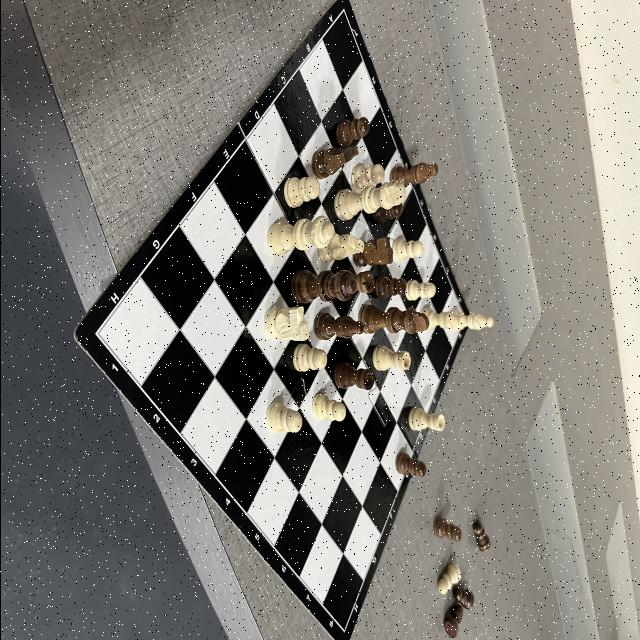Black-Bishop: (313, 312, 363, 341), (389, 162, 437, 190)
Black-King: (358, 304, 428, 334)
Black-Knight: (310, 144, 358, 180), (352, 237, 392, 268)
Black-Pawn: (335, 117, 369, 147), (395, 452, 426, 477), (374, 275, 406, 299), (432, 516, 462, 541), (442, 606, 462, 638), (372, 204, 402, 224), (472, 522, 490, 552), (452, 586, 474, 609)
Black-Queen: (290, 270, 356, 302)
Black-Rook: (334, 360, 374, 390), (336, 272, 374, 302)
White-Bishop: (419, 308, 464, 332), (448, 310, 492, 332)
White-King: (333, 182, 405, 220)
White-Knight: (264, 307, 310, 341), (317, 234, 363, 264)
White-Pawn: (284, 176, 320, 208), (266, 402, 302, 433), (292, 342, 326, 372), (312, 394, 346, 422), (350, 165, 384, 191), (437, 562, 461, 594), (392, 238, 422, 262), (404, 280, 435, 300)
White-Queen: (267, 217, 334, 255)
White-Rook: (372, 346, 411, 372), (408, 406, 444, 431)
